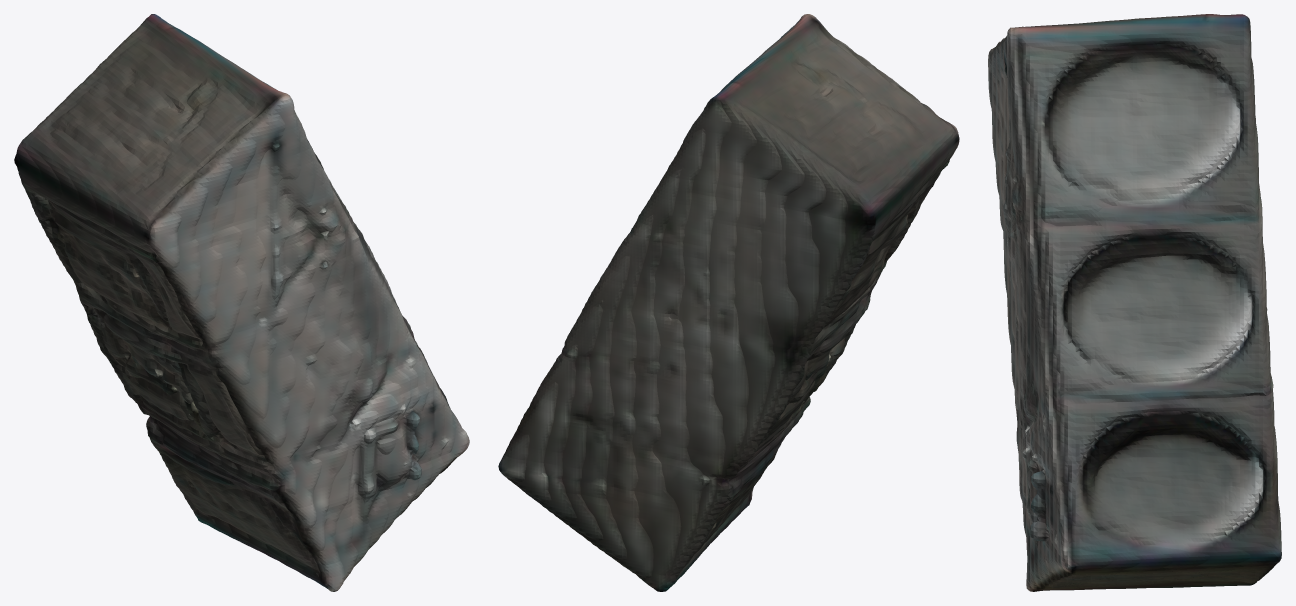
The model's file is hermes120_temiz_1783365148.glb.
3 views of the same model, side by side, from view 1: azimuth 30°, elevation 25°; view 2: azimuth 150°, elevation 25°; view 3: azimuth 270°, elevation 25° (orthographic). The views are drawn at different scales.
Visible parts, largest first — view 1: world; view 2: world; view 3: world.
Boxes of the visible parts, box(x1,y1,x2,y2) form: world: box(14, 14, 469, 591); world: box(498, 14, 959, 591); world: box(988, 14, 1281, 591).
Size of the model in its own units: 0.809 by 1.06 by 0.5247.
